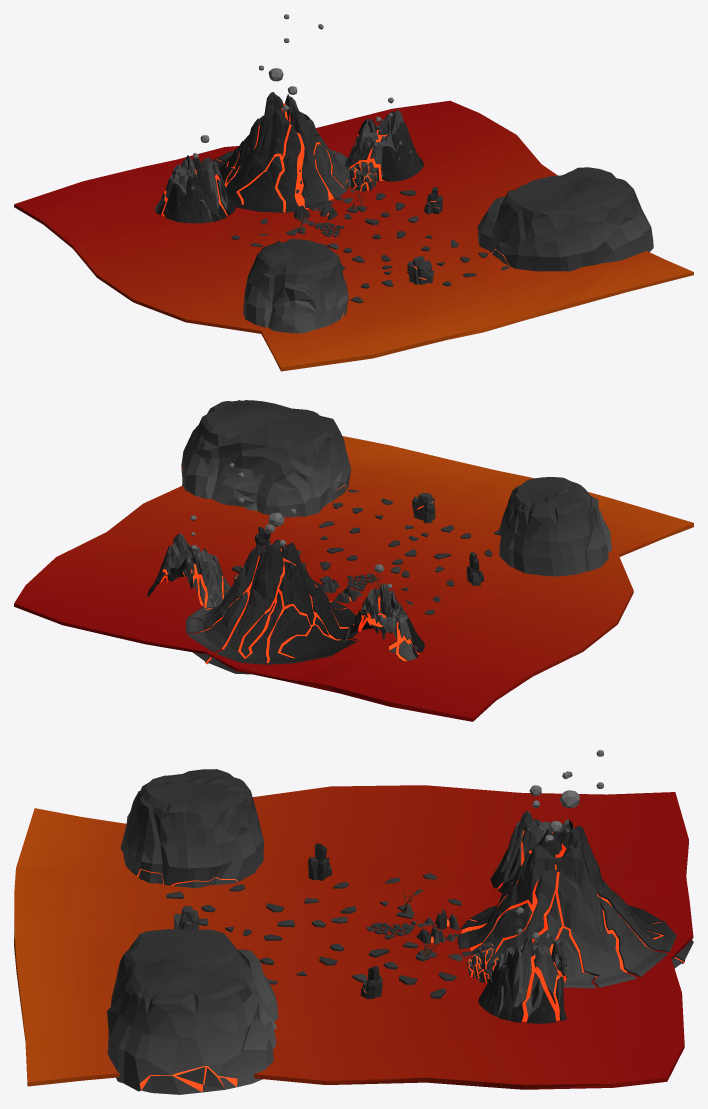
The model's file is Lava_Env_BridgeGame.fbx.
3 views of the same model, one above another, from view 1: azimuth 30°, elevation 25°; view 2: azimuth 150°, elevation 25°; view 3: azimuth 270°, elevation 25° (orthographic). The views are drawn at different scales.
Parts seen in each view (by area): view 1: 107-_PP_Lava_Ground_L.001, 28-_PP_Hill_No_Lava_1.001, 152-_PP_Volcano_Lava_.001, 20-_PP_Hill_No_Lava_0.001, 79-_PP_Volcano_Lava_0.002, 79-_PP_Volcano_Lava_0.003, 187-_PP_Lava_Column_0.002, 92-_PP_Lava_Column_De.001; view 2: 107-_PP_Lava_Ground_L.001, 28-_PP_Hill_No_Lava_1.001, 152-_PP_Volcano_Lava_.001, 20-_PP_Hill_No_Lava_0.001, 79-_PP_Volcano_Lava_0.003, 79-_PP_Volcano_Lava_0.002, 92-_PP_Lava_Column_De.001; view 3: 107-_PP_Lava_Ground_L.001, 28-_PP_Hill_No_Lava_1.001, 152-_PP_Volcano_Lava_.001, 20-_PP_Hill_No_Lava_0.001, 79-_PP_Volcano_Lava_0.003, 79-_PP_Volcano_Lava_0.002, 187-_PP_Lava_Column_0.002, 98-_PP_Lava_Column_De.001, 98-_PP_Lava_Column_De.002.
Part boxes in pixels (<box>): 107-_PP_Lava_Ground_L.001: <box>14,100,693,371</box>; 28-_PP_Hill_No_Lava_1.001: <box>477,167,653,271</box>; 152-_PP_Volcano_Lava_.001: <box>212,92,355,212</box>; 20-_PP_Hill_No_Lava_0.001: <box>243,239,348,333</box>; 79-_PP_Volcano_Lava_0.002: <box>155,155,235,223</box>; 79-_PP_Volcano_Lava_0.003: <box>345,109,423,181</box>; 187-_PP_Lava_Column_0.002: <box>349,161,377,191</box>; 92-_PP_Lava_Column_De.001: <box>407,256,433,284</box>; 107-_PP_Lava_Ground_L.001: <box>14,436,693,721</box>; 28-_PP_Hill_No_Lava_1.001: <box>181,400,350,517</box>; 152-_PP_Volcano_Lava_.001: <box>186,539,358,674</box>; 20-_PP_Hill_No_Lava_0.001: <box>498,477,611,576</box>; 79-_PP_Volcano_Lava_0.003: <box>147,533,230,609</box>; 79-_PP_Volcano_Lava_0.002: <box>341,583,424,661</box>; 92-_PP_Lava_Column_De.001: <box>412,492,435,523</box>; 107-_PP_Lava_Ground_L.001: <box>14,785,693,1089</box>; 28-_PP_Hill_No_Lava_1.001: <box>107,929,278,1094</box>; 152-_PP_Volcano_Lava_.001: <box>457,825,693,988</box>; 20-_PP_Hill_No_Lava_0.001: <box>120,769,263,888</box>; 79-_PP_Volcano_Lava_0.003: <box>478,932,567,1023</box>; 79-_PP_Volcano_Lava_0.002: <box>490,811,574,893</box>; 187-_PP_Lava_Column_0.002: <box>467,941,499,982</box>; 98-_PP_Lava_Column_De.001: <box>308,843,332,880</box>; 98-_PP_Lava_Column_De.002: <box>360,966,382,999</box>.
Size of the model in its own units: 16057 by 5597 by 15306.
Materials: 2 (2 with a texture image).
